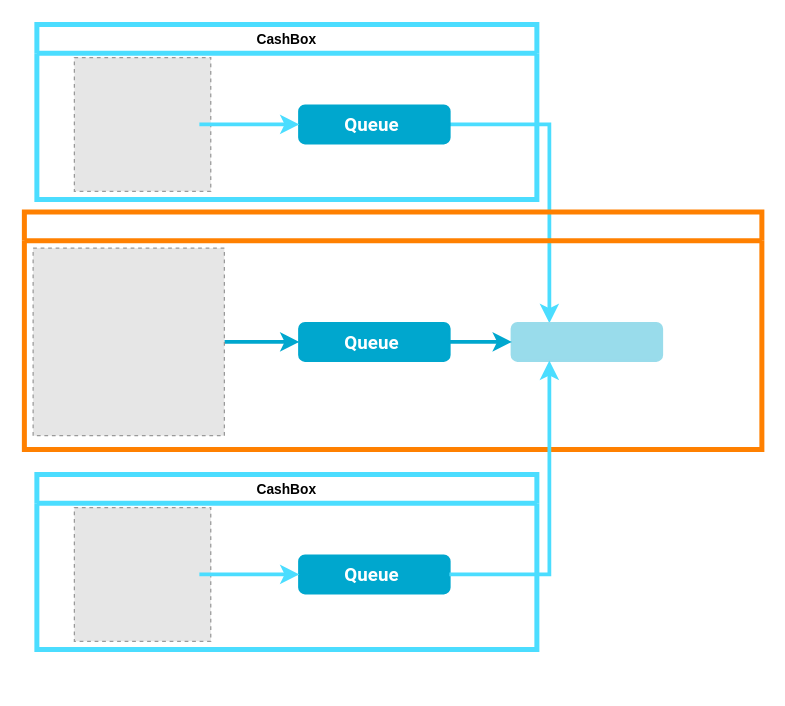
Image size: 785x706. Some labels were removed from this diagram. Grey dashed boxes stand in for pictures. Here are the shapes that lost their labels. From the top down, the box of each, then its label:
(21, 209, 764, 451): Main CashBox
(510, 321, 662, 361): SCU
